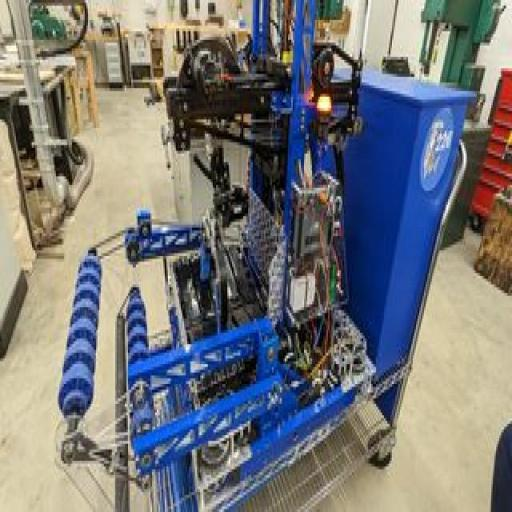robot: (44, 0, 383, 490)
